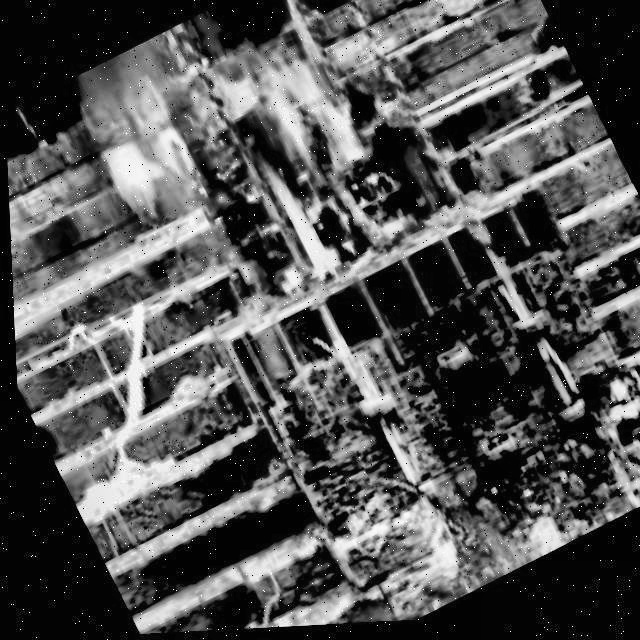Fire: (206, 19, 411, 295), (206, 20, 411, 296)
